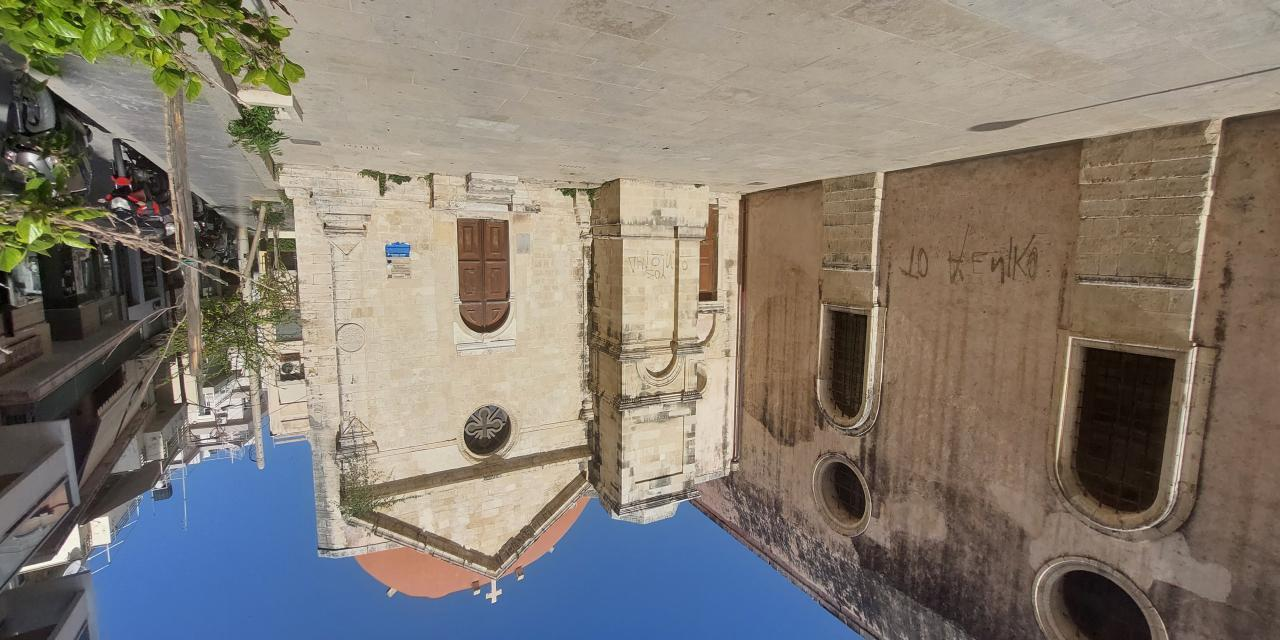Agia Aikaterini: (294, 110, 1280, 640)
